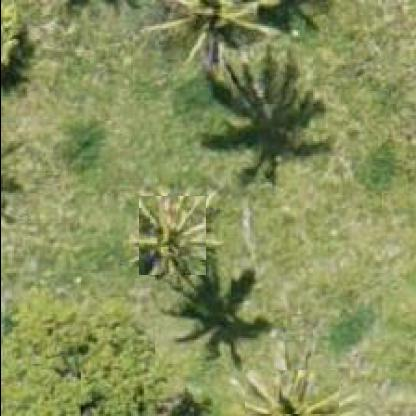coconut tree: (174, 2, 278, 69), (138, 196, 206, 276), (244, 370, 339, 415)
